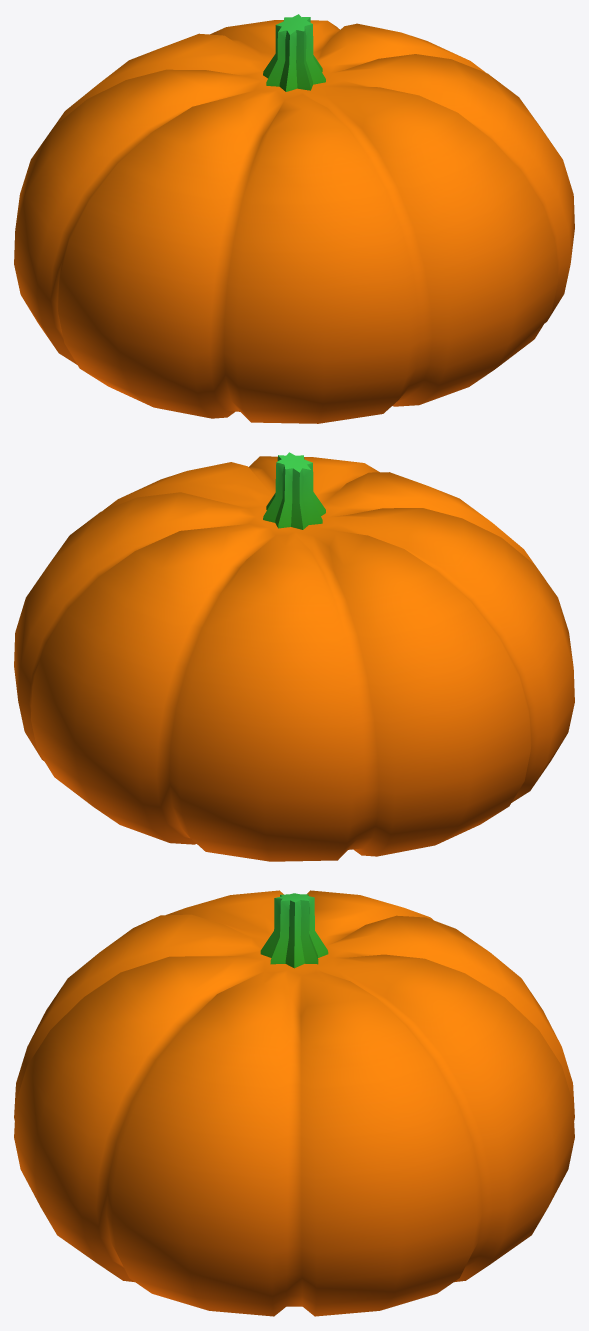
File: pumpkin.fbx
3 views of the same model, one above another, from view 1: azimuth 30°, elevation 25°; view 2: azimuth 150°, elevation 25°; view 3: azimuth 270°, elevation 25° (orthographic). The views are drawn at different scales.
Parts seen in each view (by area): view 1: pumpkin; view 2: pumpkin; view 3: pumpkin.
Part boxes in pixels (box(x1,y1,x2,y2)): pumpkin: box(14, 14, 574, 423); pumpkin: box(14, 452, 574, 861); pumpkin: box(14, 890, 574, 1316).
Bounding box in the file's own units: 206 × 136 × 195.
